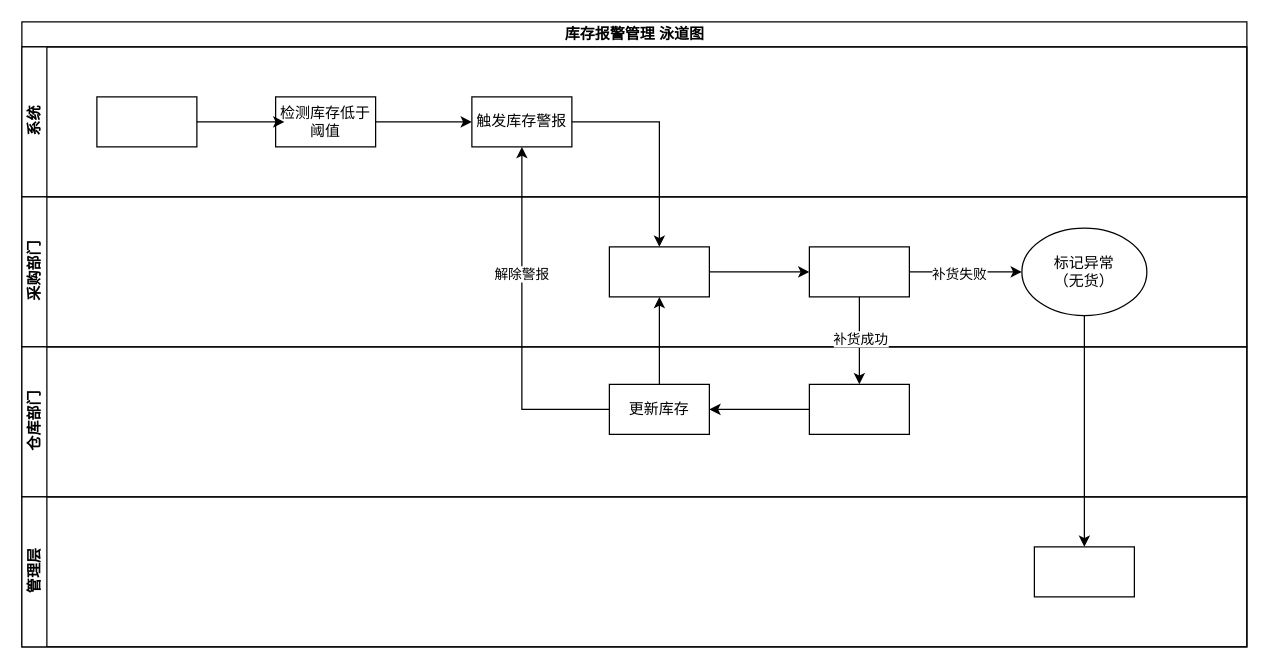
Image size: 1279x669. Some labels were removed from this diagram. Each missing label, with the centre of its shape:
"实时监控库存" goes at (x=146, y=121).
"生成补货订单" goes at (x=658, y=271).
"确认补货" goes at (x=858, y=408).
"进行人工干预" goes at (x=1083, y=571).
"进行货物采购" goes at (x=858, y=271).
